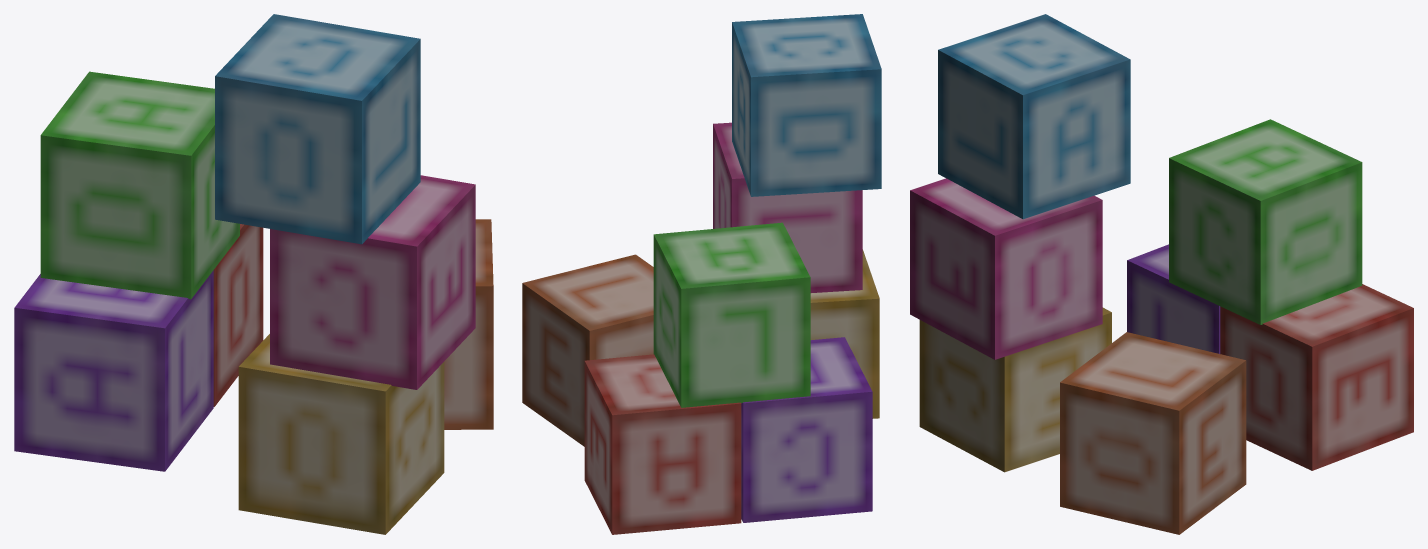
File: LetterBlocks.fbx
3 renders of one model, left to right at view 1: azimuth 30°, elevation 25°; view 2: azimuth 150°, elevation 25°; view 3: azimuth 270°, elevation 25°, orthographic. The views are drawn at different scales.
Parts seen in each view (by area): view 1: Letter Blocks, Letter Block.001; view 2: Letter Blocks, Letter Block.001; view 3: Letter Blocks, Letter Block.001.
Part boxes in pixels (bbox=[...]): Letter Blocks: bbox=[14, 14, 475, 534]; Letter Block.001: bbox=[444, 219, 493, 429]; Letter Blocks: bbox=[584, 14, 881, 534]; Letter Block.001: bbox=[522, 254, 653, 446]; Letter Blocks: bbox=[910, 14, 1413, 472]; Letter Block.001: bbox=[1060, 332, 1246, 534].
Bounding box in the file's own units: 14.71 × 13.08 × 11.97.
